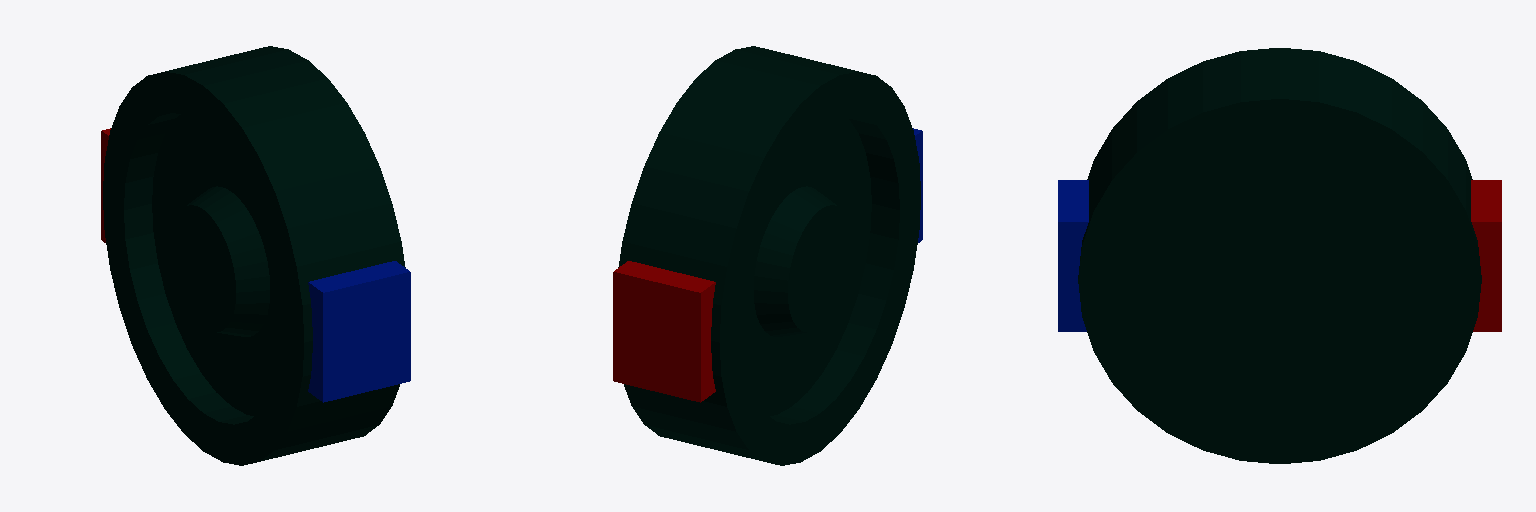
The model's file is Servo_Physics.obj.
The picture shows the model from 3 angles: view 1: azimuth 30°, elevation 25°; view 2: azimuth 150°, elevation 25°; view 3: azimuth 270°, elevation 25°; orthographic projection.
Visible parts, largest first — view 1: Handle1, Forwards1; view 2: Handle1, Backwards1; view 3: Handle1, Forwards1, Backwards1.
Part boxes in pixels (bbox=[...]): Handle1: bbox=[103, 46, 405, 465]; Forwards1: bbox=[308, 261, 410, 402]; Handle1: bbox=[618, 46, 920, 465]; Backwards1: bbox=[613, 261, 715, 402]; Handle1: bbox=[1078, 48, 1481, 463]; Forwards1: bbox=[1058, 180, 1088, 331]; Backwards1: bbox=[1471, 180, 1501, 331].
Bounding box in the file's own units: 0.3 × 1 × 1.1.